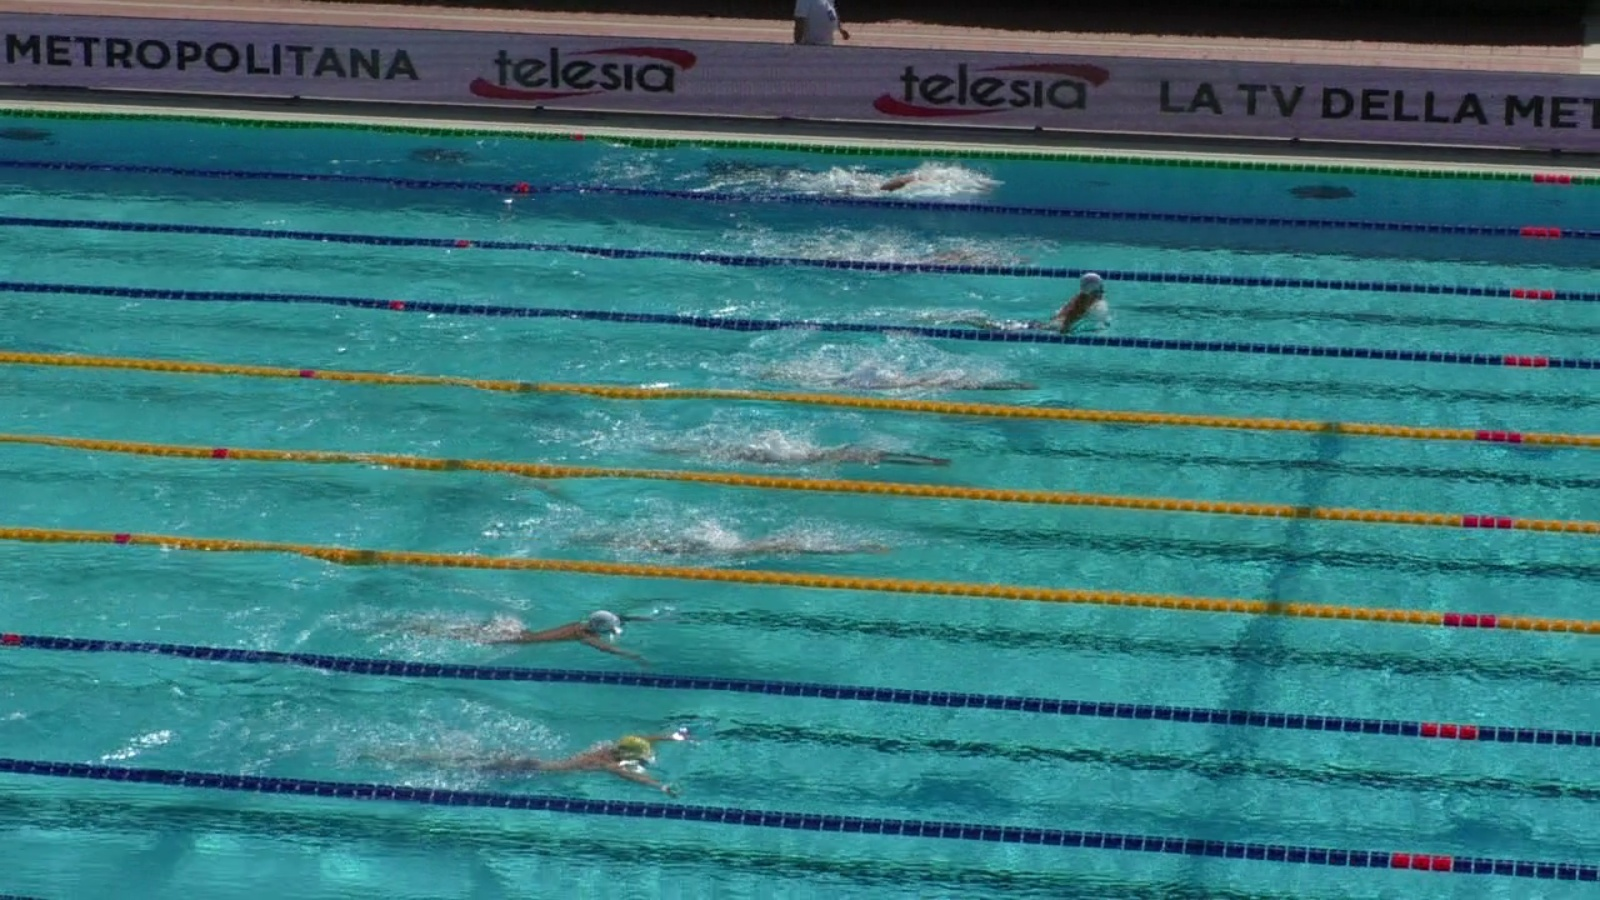swimmerwdd: (393, 727, 689, 799), (607, 520, 893, 573), (418, 608, 662, 665), (718, 429, 954, 480), (938, 271, 1115, 336), (765, 363, 1043, 400), (862, 243, 1031, 280), (795, 168, 947, 199)
